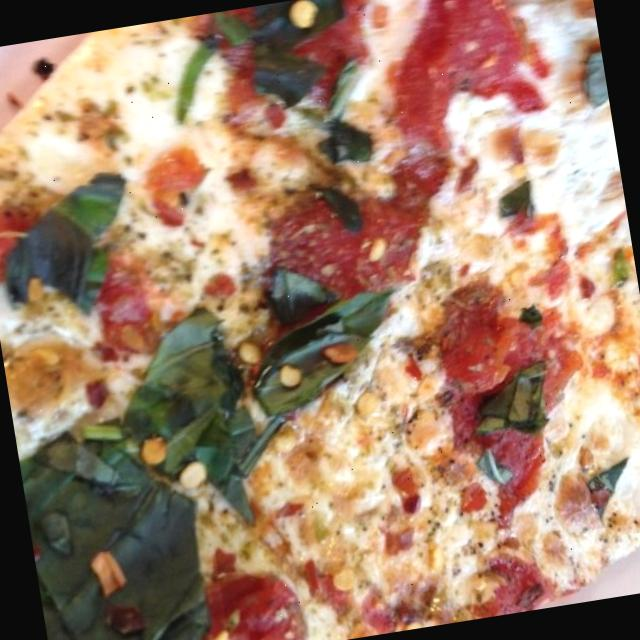basil: (18, 425, 231, 640), (114, 308, 284, 536), (232, 258, 410, 424), (0, 169, 142, 318), (231, 0, 368, 123), (300, 80, 383, 174), (474, 360, 563, 441), (574, 450, 640, 531), (306, 168, 368, 238), (570, 31, 612, 120)
cheese: (393, 76, 639, 320), (256, 384, 488, 630), (41, 20, 250, 192), (519, 375, 640, 566), (133, 210, 263, 292), (349, 0, 434, 90)
pizza: (0, 0, 640, 640), (254, 176, 435, 343)
tomato: (433, 297, 600, 511), (198, 0, 370, 136), (387, 0, 545, 139), (185, 554, 310, 640), (87, 262, 153, 366), (472, 543, 558, 618)
